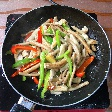chashugu: (13, 17, 96, 94)
